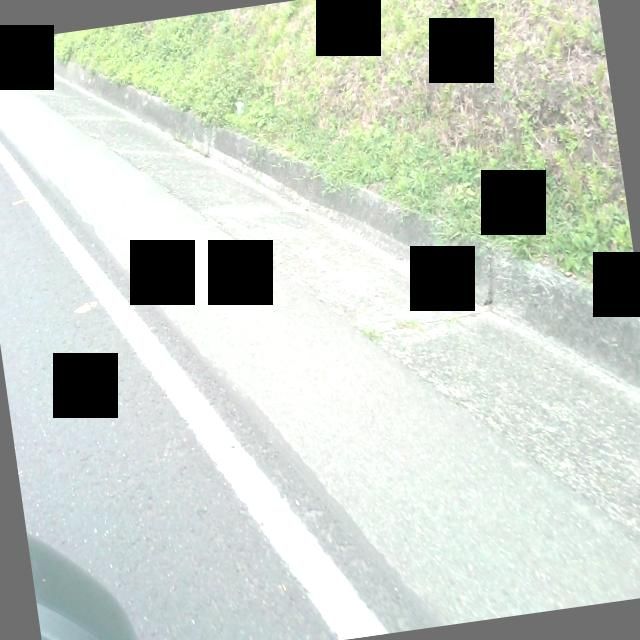DITCH: (0, 0, 640, 640), (0, 73, 640, 640)
